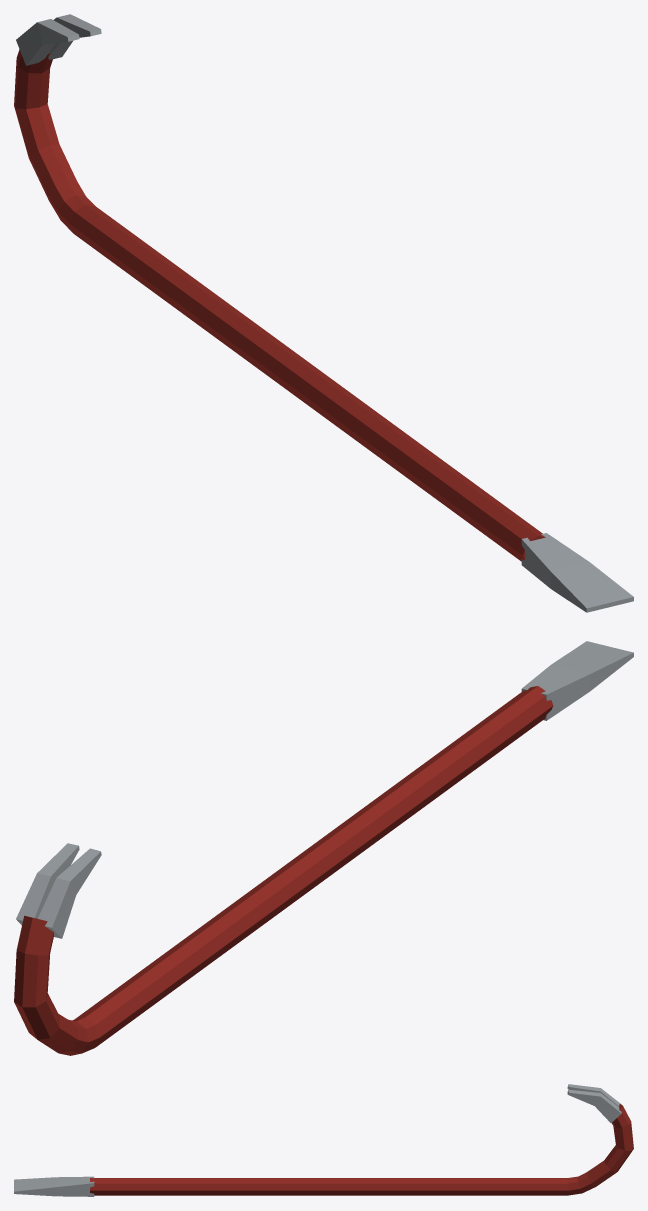
File: pied_de_biche.glb
3 renders of one model, top to bottom at view 1: azimuth 30°, elevation 25°; view 2: azimuth 150°, elevation 25°; view 3: azimuth 270°, elevation 25°, orthographic. The views are drawn at different scales.
Parts seen in each view (by area): view 1: bar, chisel, claw_l, claw_r; view 2: bar, chisel, claw_l, claw_r; view 3: bar, chisel, claw_r, claw_l.
Boxes of the visible parts, left/top/right/bottom form: bar: left=14, top=49, right=545, bottom=561; chisel: left=521, top=533, right=633, bottom=612; claw_l: left=16, top=19, right=79, bottom=65; claw_r: left=48, top=14, right=101, bottom=59; bar: left=14, top=686, right=553, bottom=1055; chisel: left=521, top=641, right=633, bottom=720; claw_l: left=37, top=848, right=101, bottom=938; claw_r: left=16, top=843, right=79, bottom=925; bar: left=90, top=1104, right=633, bottom=1195; chisel: left=14, top=1176, right=94, bottom=1196; claw_r: left=567, top=1089, right=621, bottom=1122; claw_l: left=567, top=1084, right=621, bottom=1106.
Bounding box in the file's own units: 0.034 × 0.1395 × 0.7329.
2 materials, 2 textured.
